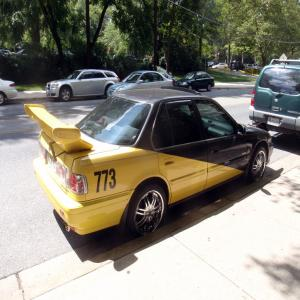Vehicle-registration-plate: (269, 118, 281, 129)
